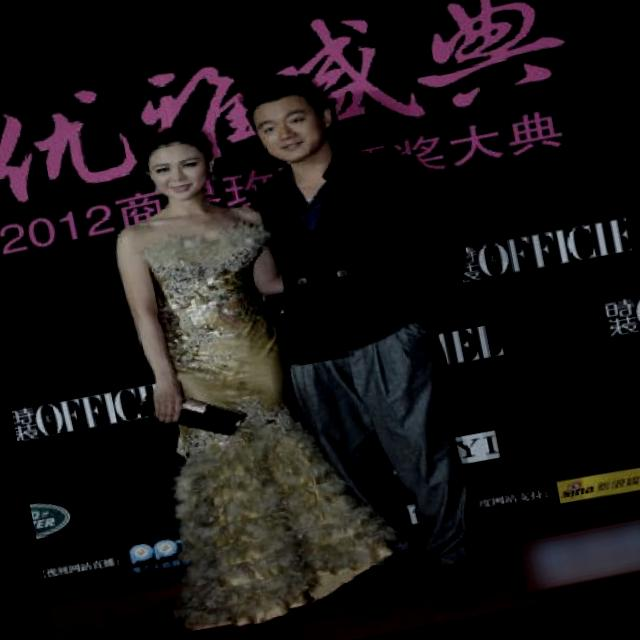Person: (219, 43, 522, 640), (56, 95, 384, 636)
